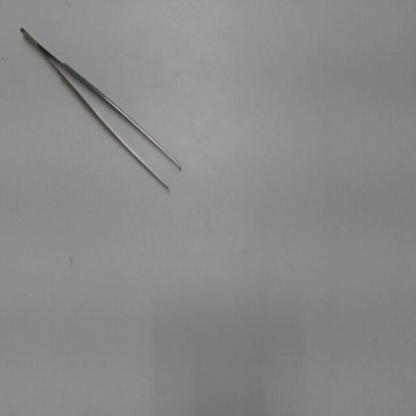Gillies Toothed Dissector: (16, 20, 191, 203)
